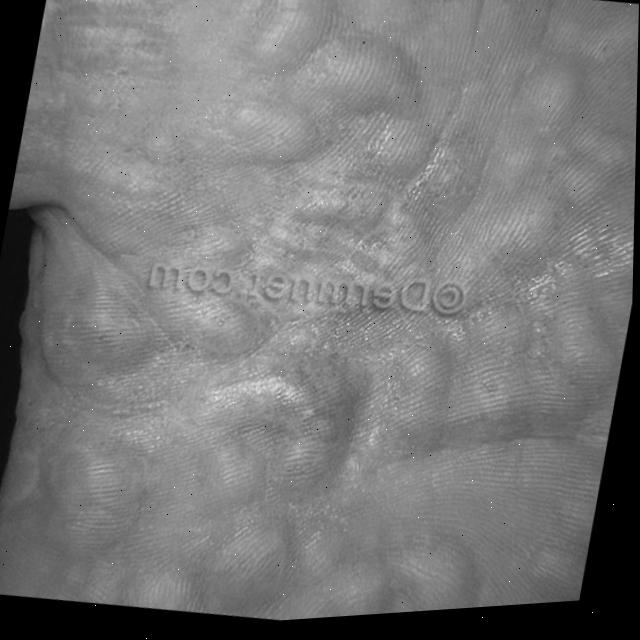Eczema: (8, 0, 640, 639)
